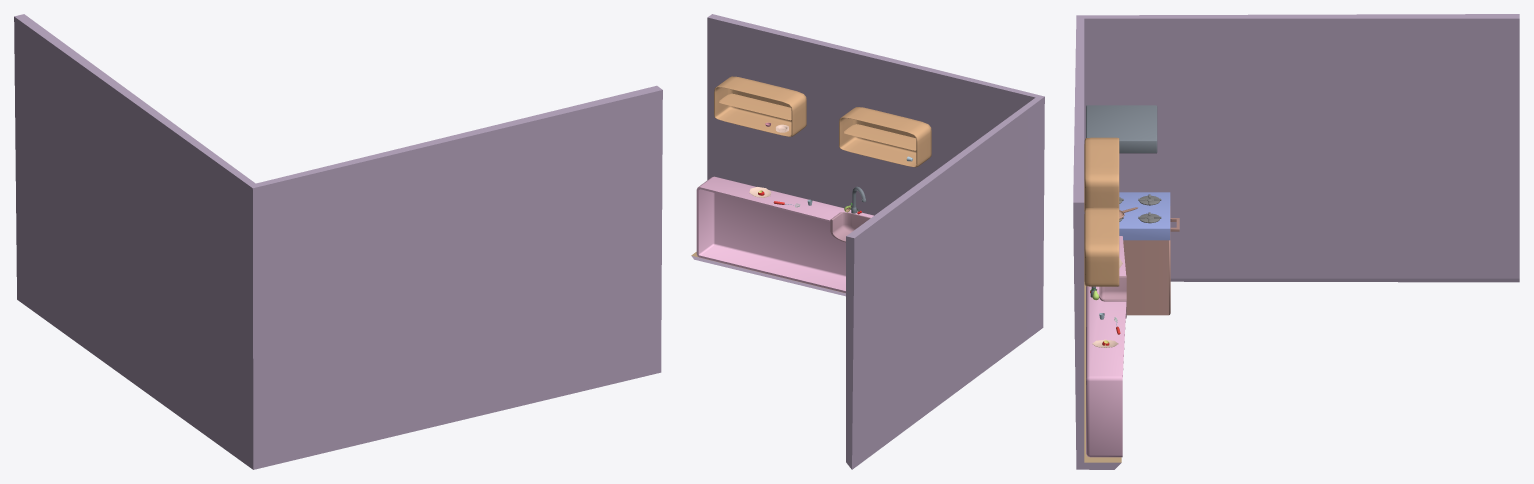
The model's file is Kitchen01.fbx.
3 views of the same model, side by side, from view 1: azimuth 30°, elevation 25°; view 2: azimuth 150°, elevation 25°; view 3: azimuth 270°, elevation 25° (orthographic). The views are drawn at different scales.
Visible parts, largest first — view 1: Cube.001; view 2: Cube.001, dolap.alt.001, dolap.üst2.001, dolap.üst2; view 3: Cube.001, dolap.alt.001, fırın.alt, Cube, dolap.üst2, dolap.üst2.001.
Part boxes in pixels (x1=…): Cube.001: x1=14, y1=14, x2=662, y2=469; Cube.001: x1=691, y1=14, x2=1044, y2=469; dolap.alt.001: x1=696, y1=176, x2=873, y2=292; dolap.üst2.001: x1=839, y1=107, x2=931, y2=167; dolap.üst2: x1=714, y1=76, x2=806, y2=136; Cube.001: x1=1073, y1=14, x2=1519, y2=469; dolap.alt.001: x1=1086, y1=236, x2=1126, y2=457; fırın.alt: x1=1119, y1=192, x2=1179, y2=315; Cube: x1=1086, y1=105, x2=1157, y2=153; dolap.üst2: x1=1084, y1=207, x2=1119, y2=286; dolap.üst2.001: x1=1084, y1=137, x2=1119, y2=211.
Size of the model in its own units: 1254 by 828 by 1254.
